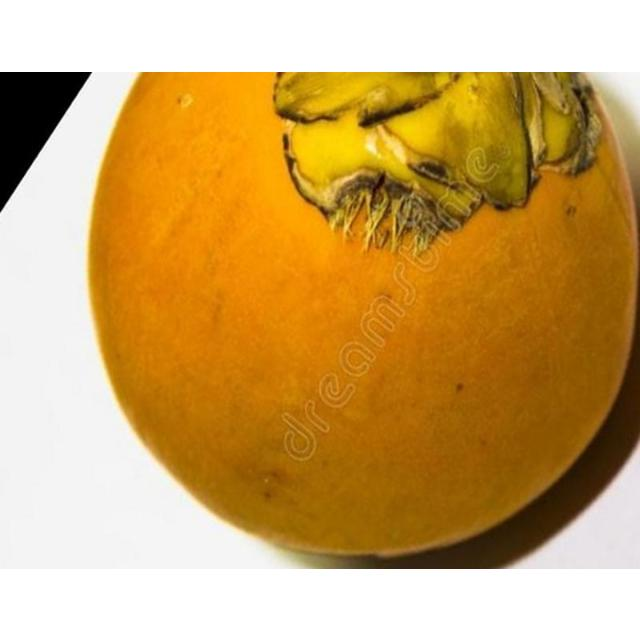good: (85, 71, 639, 562)
